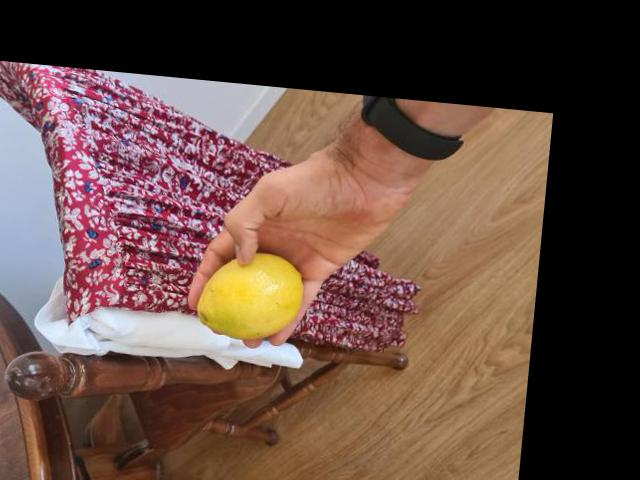lemon: (195, 247, 308, 345)
